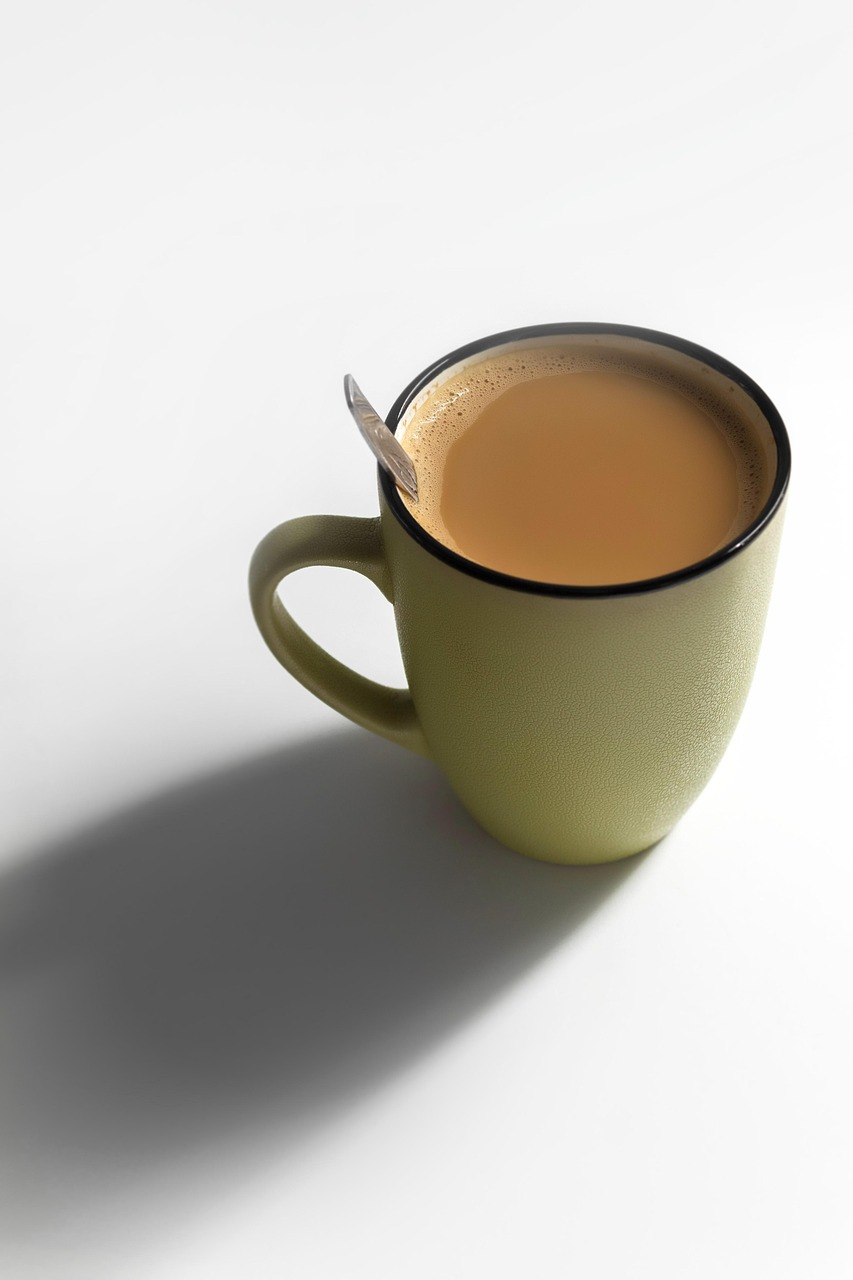mug: (203, 318, 796, 906)
